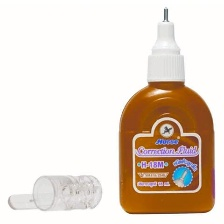correction_fluid: (115, 5, 217, 216)
